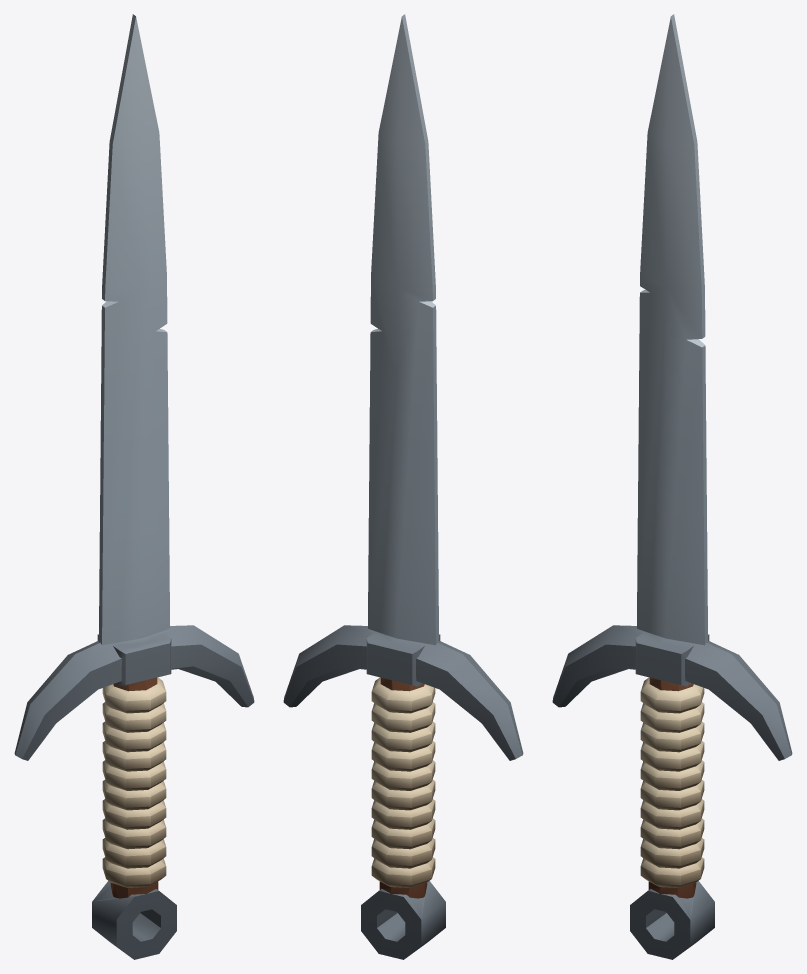
Rendered from longblade_crescent.glb.
The picture shows the model from 3 angles, left to right: view 1: azimuth 30°, elevation 25°; view 2: azimuth 150°, elevation 25°; view 3: azimuth 330°, elevation 25°; orthographic projection.
Visible parts, largest first — view 1: Item; view 2: Item; view 3: Item.
Part boxes in pixels (x1,y1,x2,y2): Item: (14,14,254,959); Item: (283,14,523,959); Item: (552,14,792,959).
Bounding box in the file's own units: 0.6951 × 2.6 × 0.1656.
Materials: 2 (2 with a texture image).
